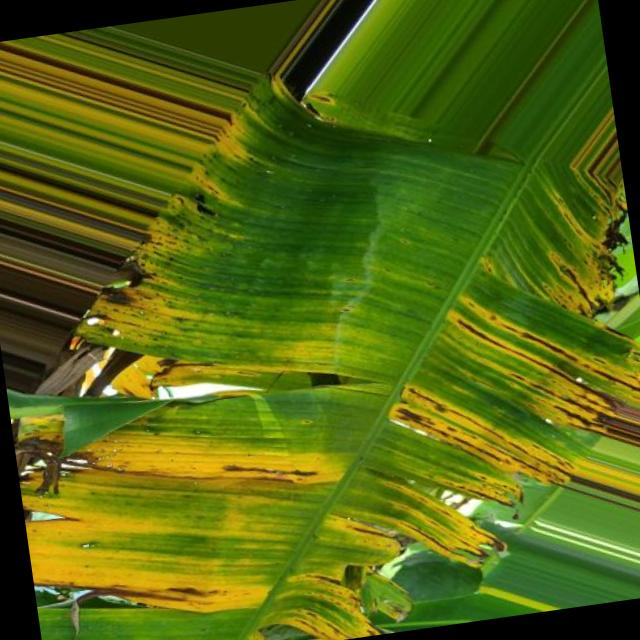Banana_Black_Sigatoka: (0, 71, 354, 628), (360, 161, 640, 497), (168, 451, 568, 640)
